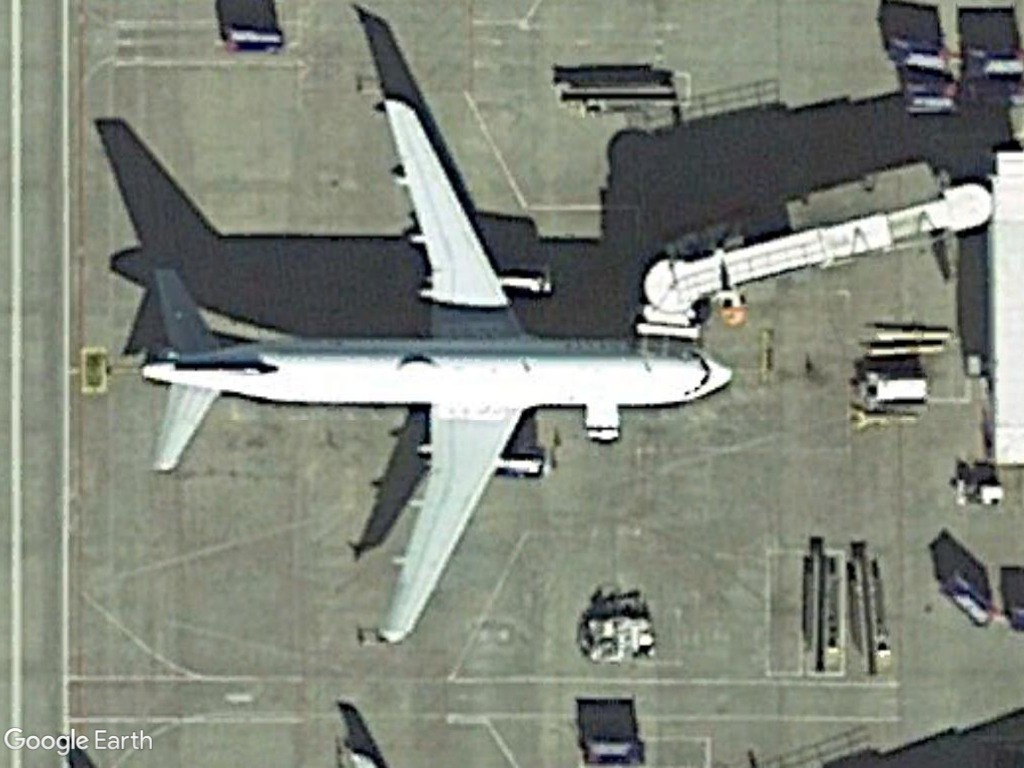airliner: (134, 80, 738, 640)
